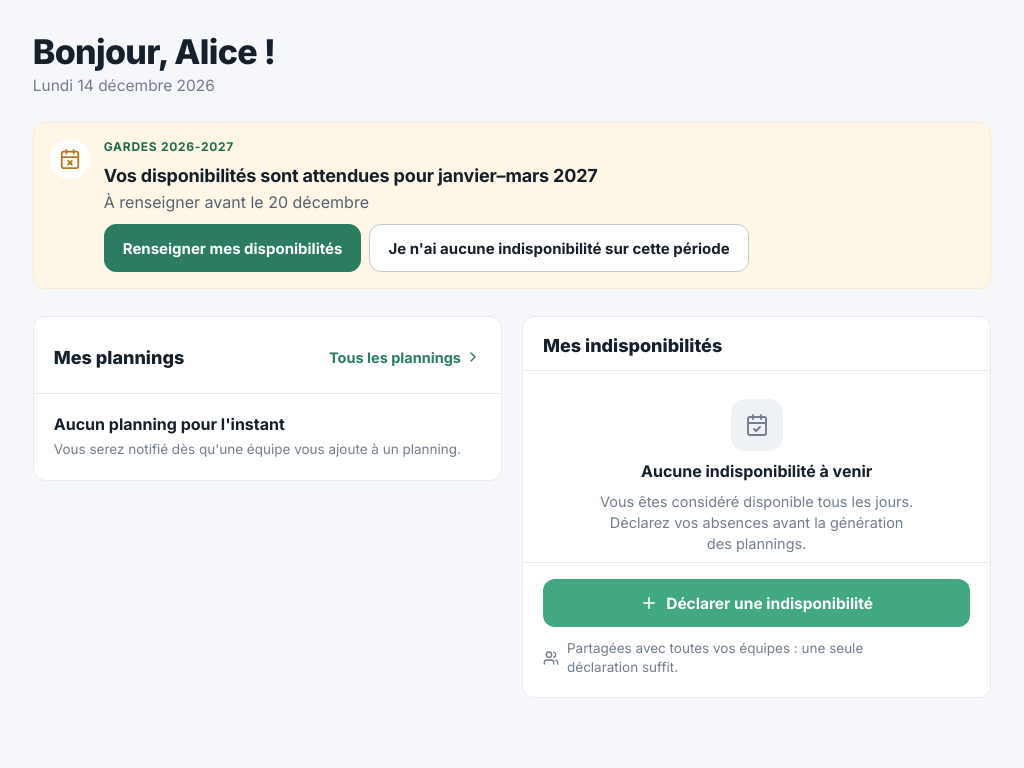
Test case: DashboardPage — availability collections › lets someone with nothing to declare say so, and shows the confirmation at once
Click the button "Je n'ai aucune indisponibilité sur cette période" at [559, 248], box top-left (369, 224), bottom-right (748, 272)
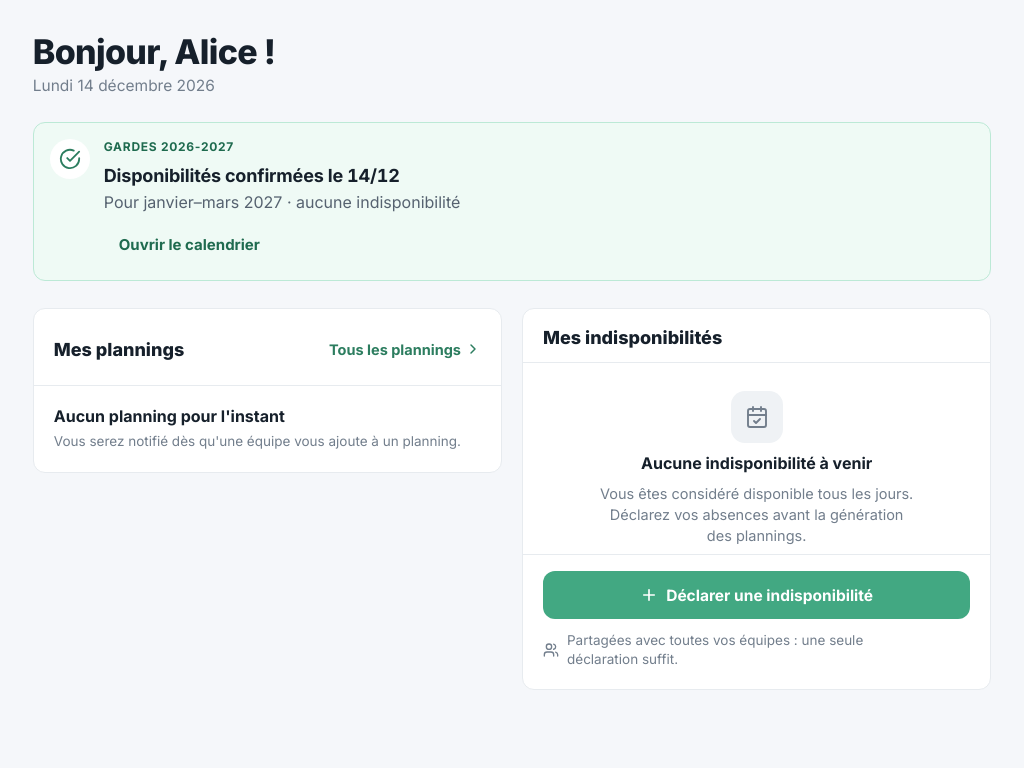
expect the heading "Disponibilités confirmées le 14/12" is shown: met, box top-left (104, 165), bottom-right (400, 186)
expect the heading "Vos disponibilités sont attendues" is gone: met
expect the link "Renseigner mes disponibilités" is gone: met
